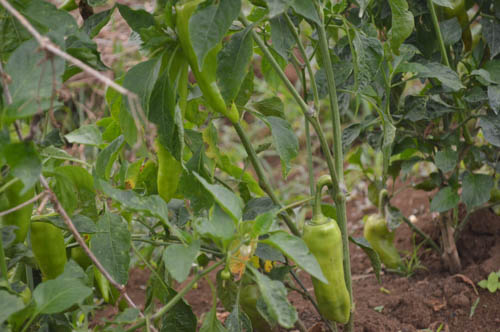ChiliPepper: (174, 6, 243, 125), (301, 222, 349, 324), (30, 218, 69, 279), (153, 136, 183, 208), (366, 216, 403, 270)
